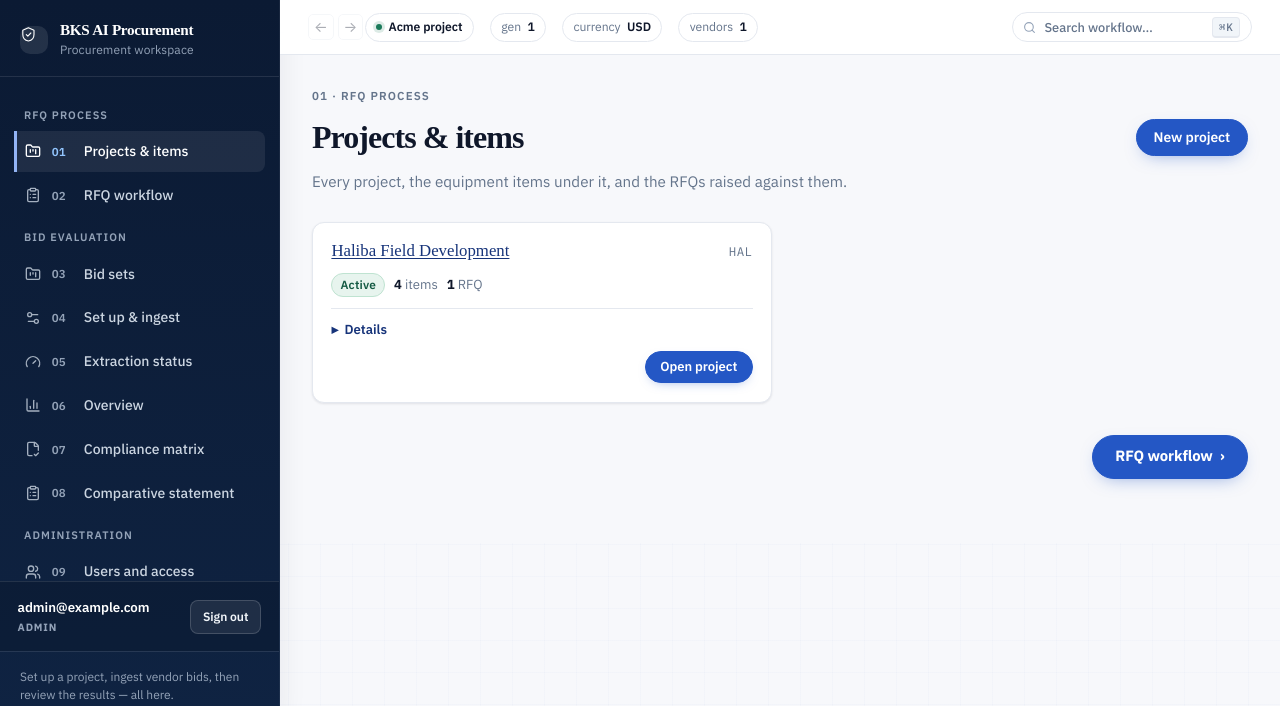
Test case: a rail click returns a section to its top level (BUG-016) › clicking 01 while inside an item returns to the project roster
What coordinates should you click on to do the following:
click the button "Haliba Field Development"
I would click on:
 (420, 251)
Its box is [331,240,509,262].
(page scrolled)
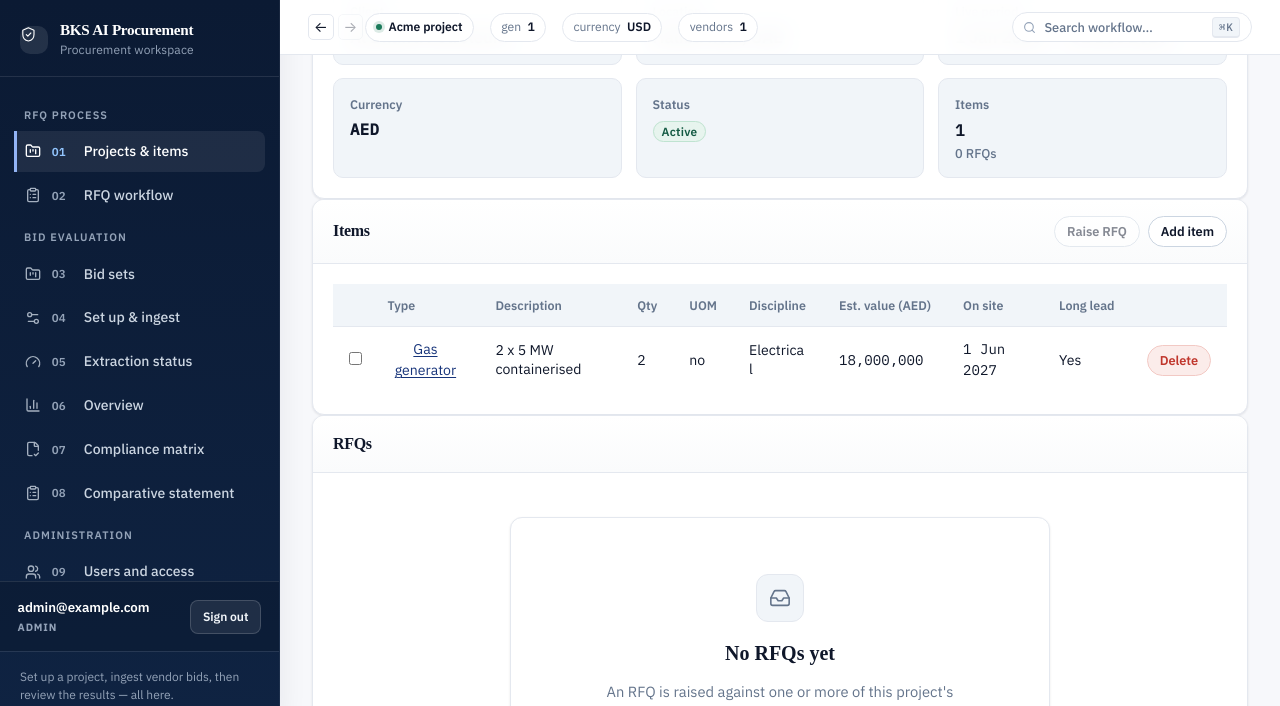
What coordinates should you click on to do the following:
click the button "Gas generator"
I would click on:
 (425, 360)
Its box is [387,339,464,382].
(page scrolled)
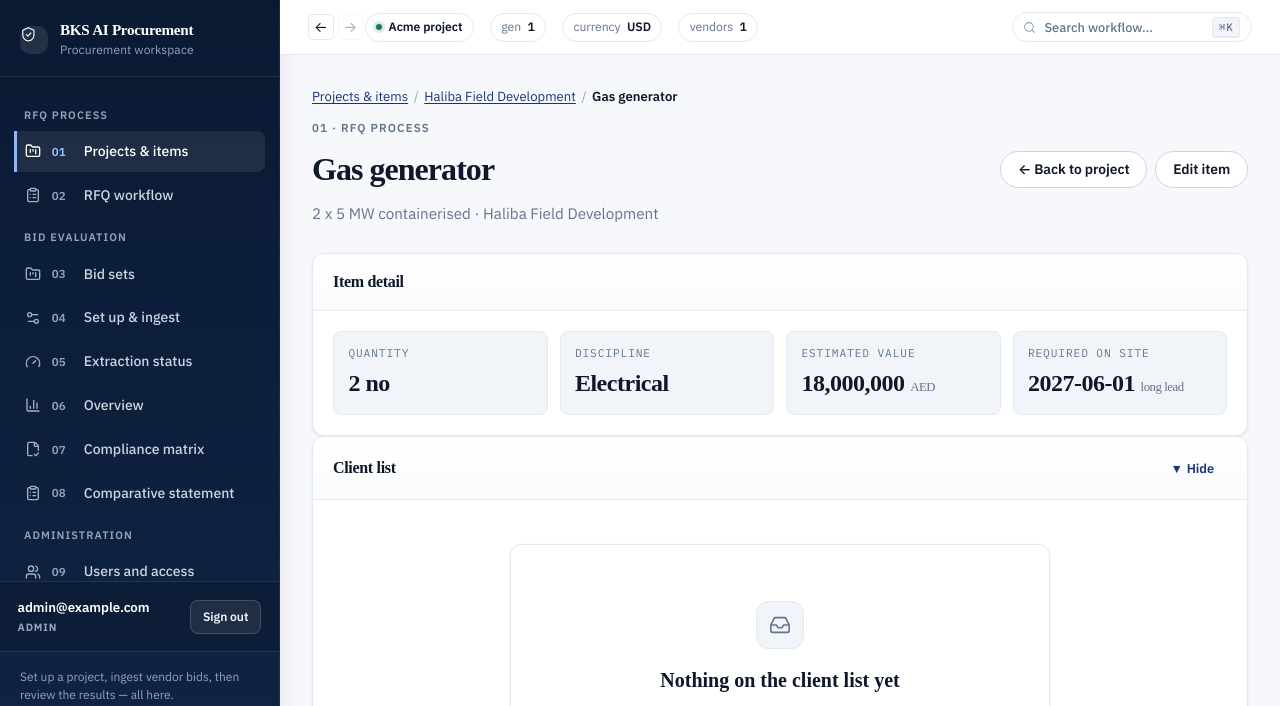
Check: the heading "Gas generator" is shown, box [312,145,494,193]
What coordinates should you click on to do the following:
click the button "01 Projects & items"
I would click on:
 (140, 152)
Its box is [14,131,265,172].
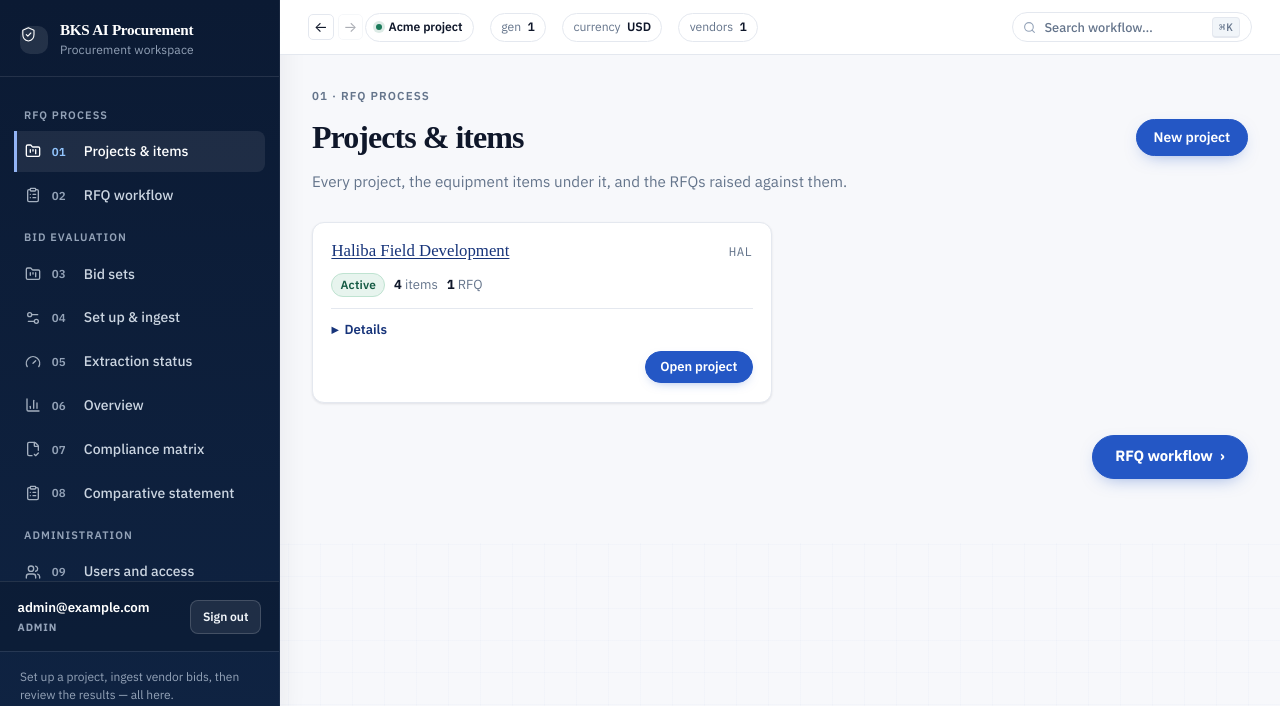
Check: the text "Every project, the equipment items" is shown, box [312,172,847,192]
Check: the text "Gas generator" is gone
